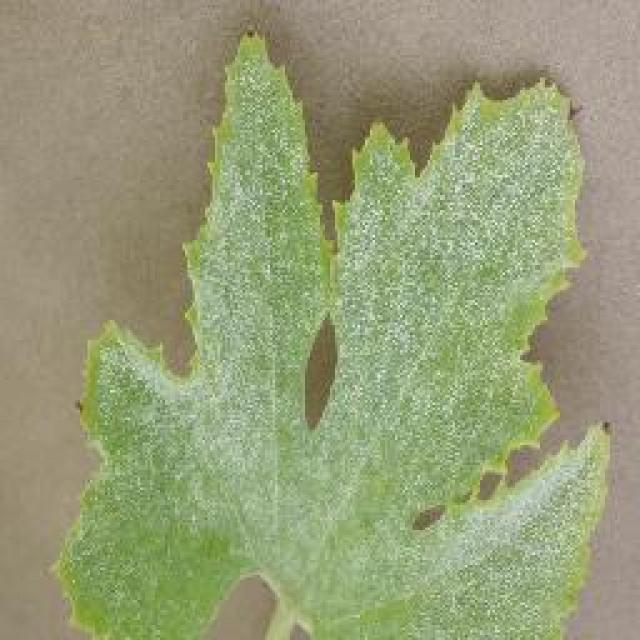Squ_Powdery_mildew: (182, 144, 543, 610)
